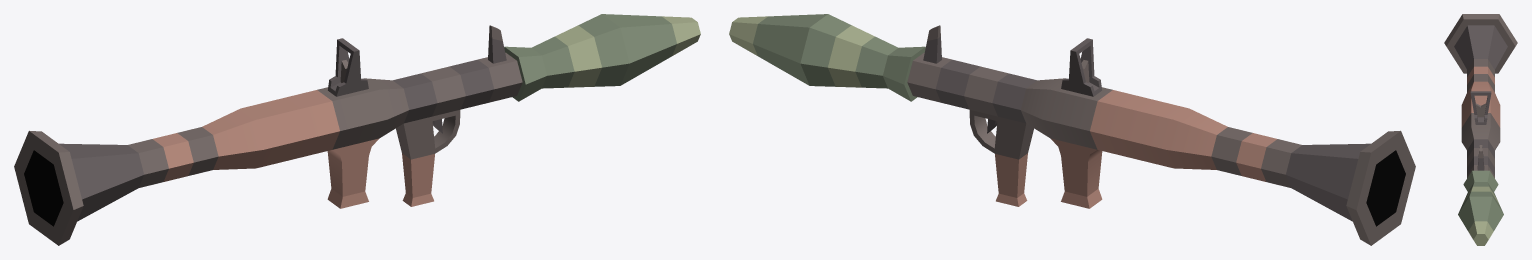
Rendered from Launcher.fbx.
The picture shows the model from 3 angles, left to right: view 1: azimuth 30°, elevation 25°; view 2: azimuth 150°, elevation 25°; view 3: azimuth 270°, elevation 25°; orthographic projection. The views are drawn at different scales.
Parts seen in each view (by area): view 1: Launcher, Warhead; view 2: Launcher, Warhead; view 3: Launcher, Warhead.
Boxes of the visible parts, x1=… form: Launcher: x1=14, y1=25, x2=522, y2=245; Warhead: x1=504, y1=14, x2=700, y2=101; Launcher: x1=907, y1=25, x2=1415, y2=245; Warhead: x1=729, y1=14, x2=925, y2=101; Launcher: x1=1444, y1=14, x2=1517, y2=177; Warhead: x1=1458, y1=170, x2=1503, y2=245.
Size of the model in its own units: 36.95 by 59.33 by 233.
